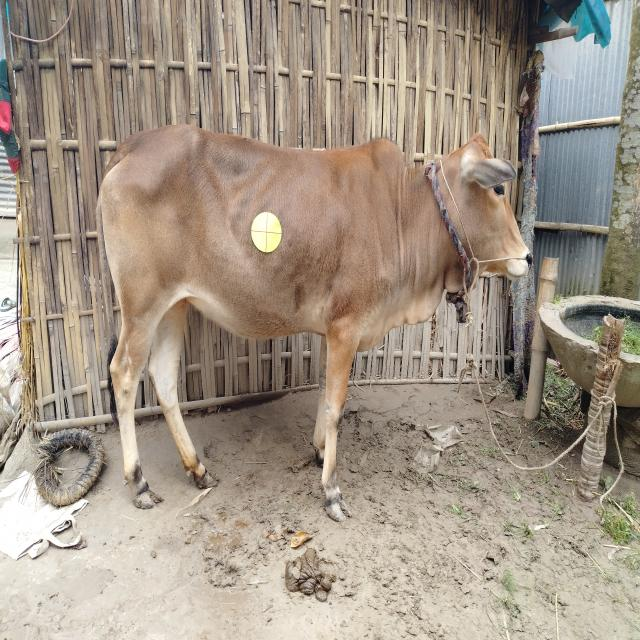badan_sapi: (100, 148, 398, 345)
sapi: (88, 115, 534, 531)
